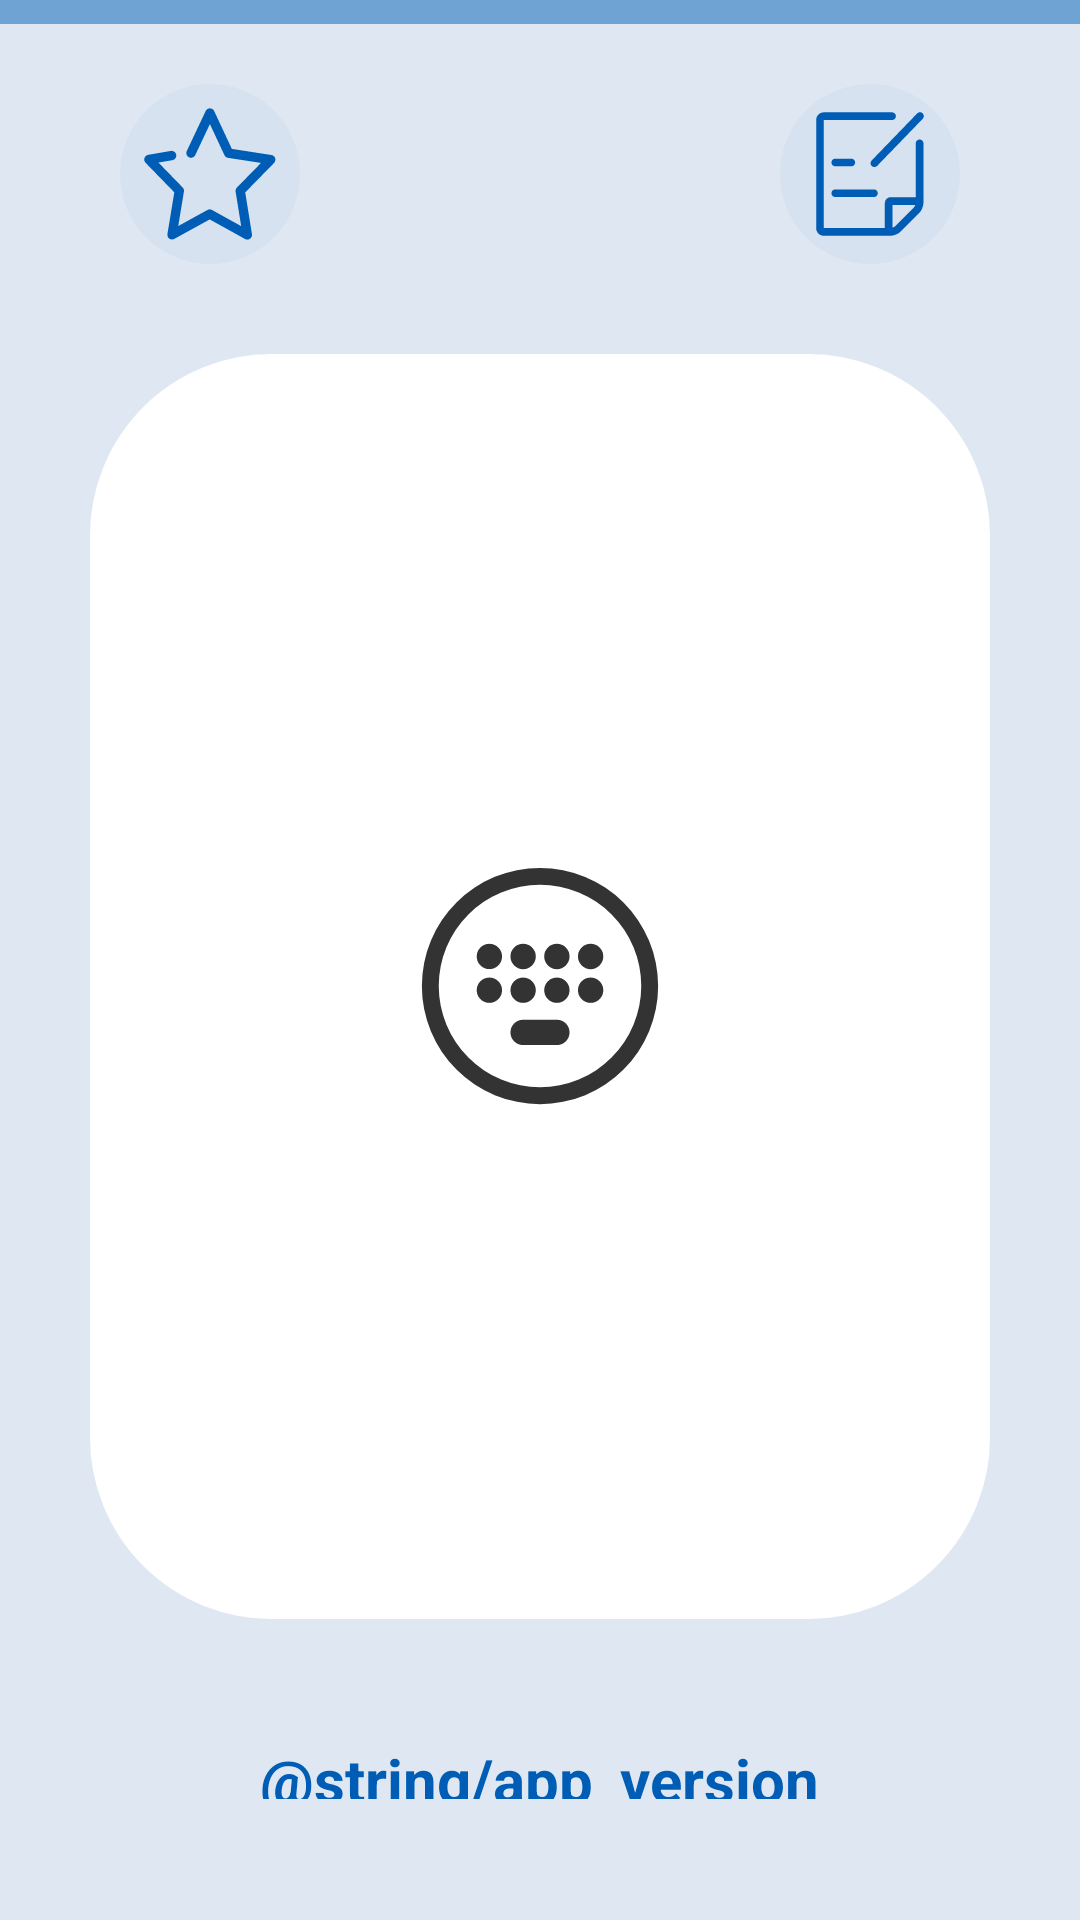

Point at icon controls on the screen. Image size 1080 × 1920, points as point (x, y).
keyboard: point (540, 986)
